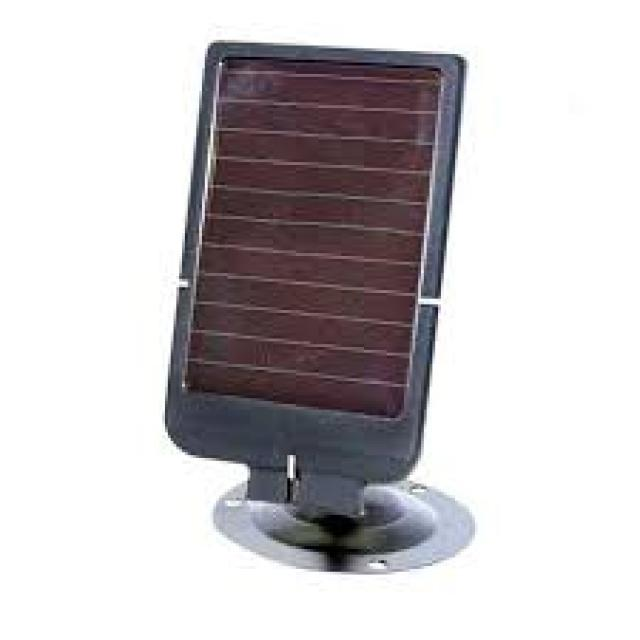faulty: (210, 48, 428, 424)
